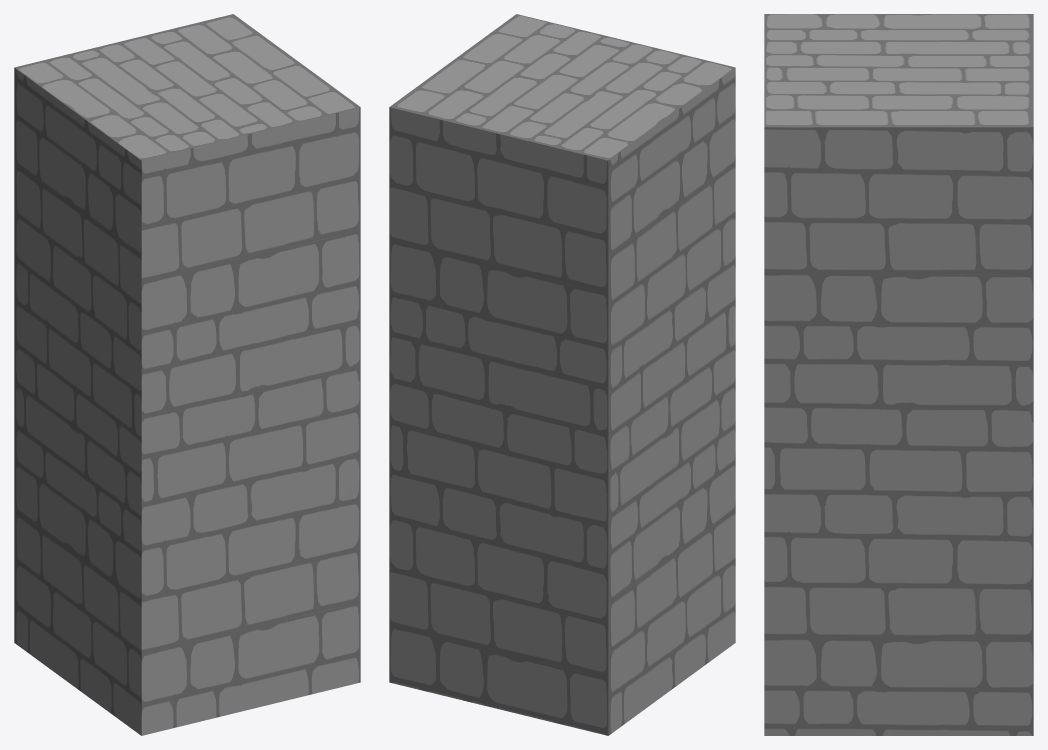
File: Wall4.fbx
3 views of the same model, side by side, from view 1: azimuth 30°, elevation 25°; view 2: azimuth 150°, elevation 25°; view 3: azimuth 270°, elevation 25° (orthographic). The views are drawn at different scales.
Parts seen in each view (by area): view 1: Wall; view 2: Wall; view 3: Wall.
Boxes of the visible parts, x1,y1,x2,y2 form: Wall: [14, 14, 360, 735]; Wall: [389, 14, 735, 735]; Wall: [764, 14, 1033, 735].
Size of the model in its own units: 199 by 499 by 200.
